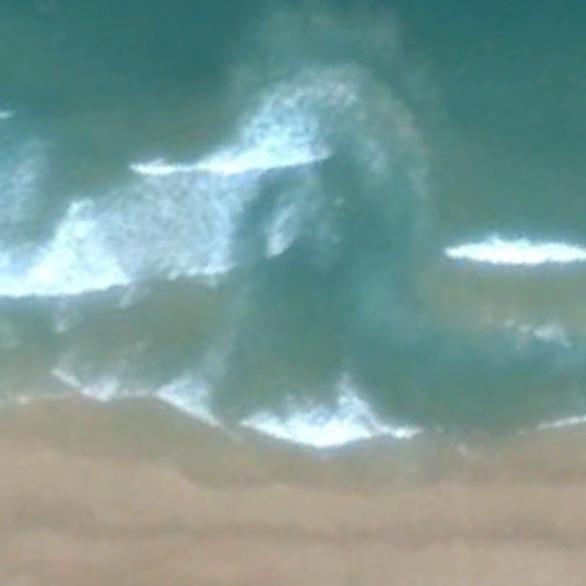rip_current: (186, 42, 459, 406)
